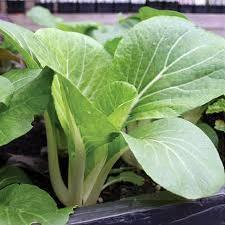Healthy-Pechay: (1, 10, 223, 220), (165, 47, 224, 90), (75, 39, 91, 92), (64, 43, 72, 85)
